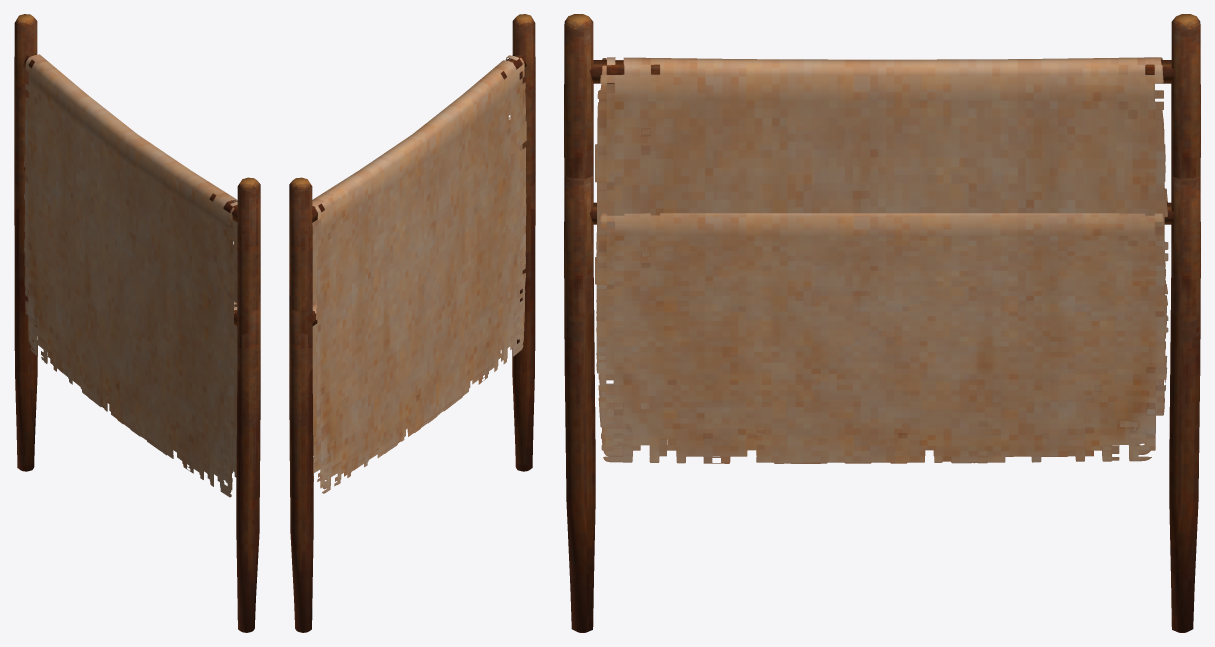
File: chCanopyWalls.fbx
3 views of the same model, side by side, from view 1: azimuth 30°, elevation 25°; view 2: azimuth 150°, elevation 25°; view 3: azimuth 270°, elevation 25° (orthographic). The views are drawn at different scales.
Visible parts, largest first — view 1: CanopyFenceTall, CanopyFenceShort; view 2: CanopyFenceTall, CanopyFenceShort; view 3: CanopyFenceShort, CanopyFenceTall.
Boxes of the visible parts, left/top/right/bottom form: CanopyFenceTall: left=14, top=14, right=260, bottom=632; CanopyFenceShort: left=14, top=167, right=260, bottom=601; CanopyFenceTall: left=289, top=14, right=535, bottom=632; CanopyFenceShort: left=289, top=169, right=535, bottom=601; CanopyFenceShort: left=564, top=175, right=1200, bottom=594; CanopyFenceTall: left=564, top=14, right=1200, bottom=632.
Bounding box in the file's own units: 4.08 × 0.2266 × 4.34.
